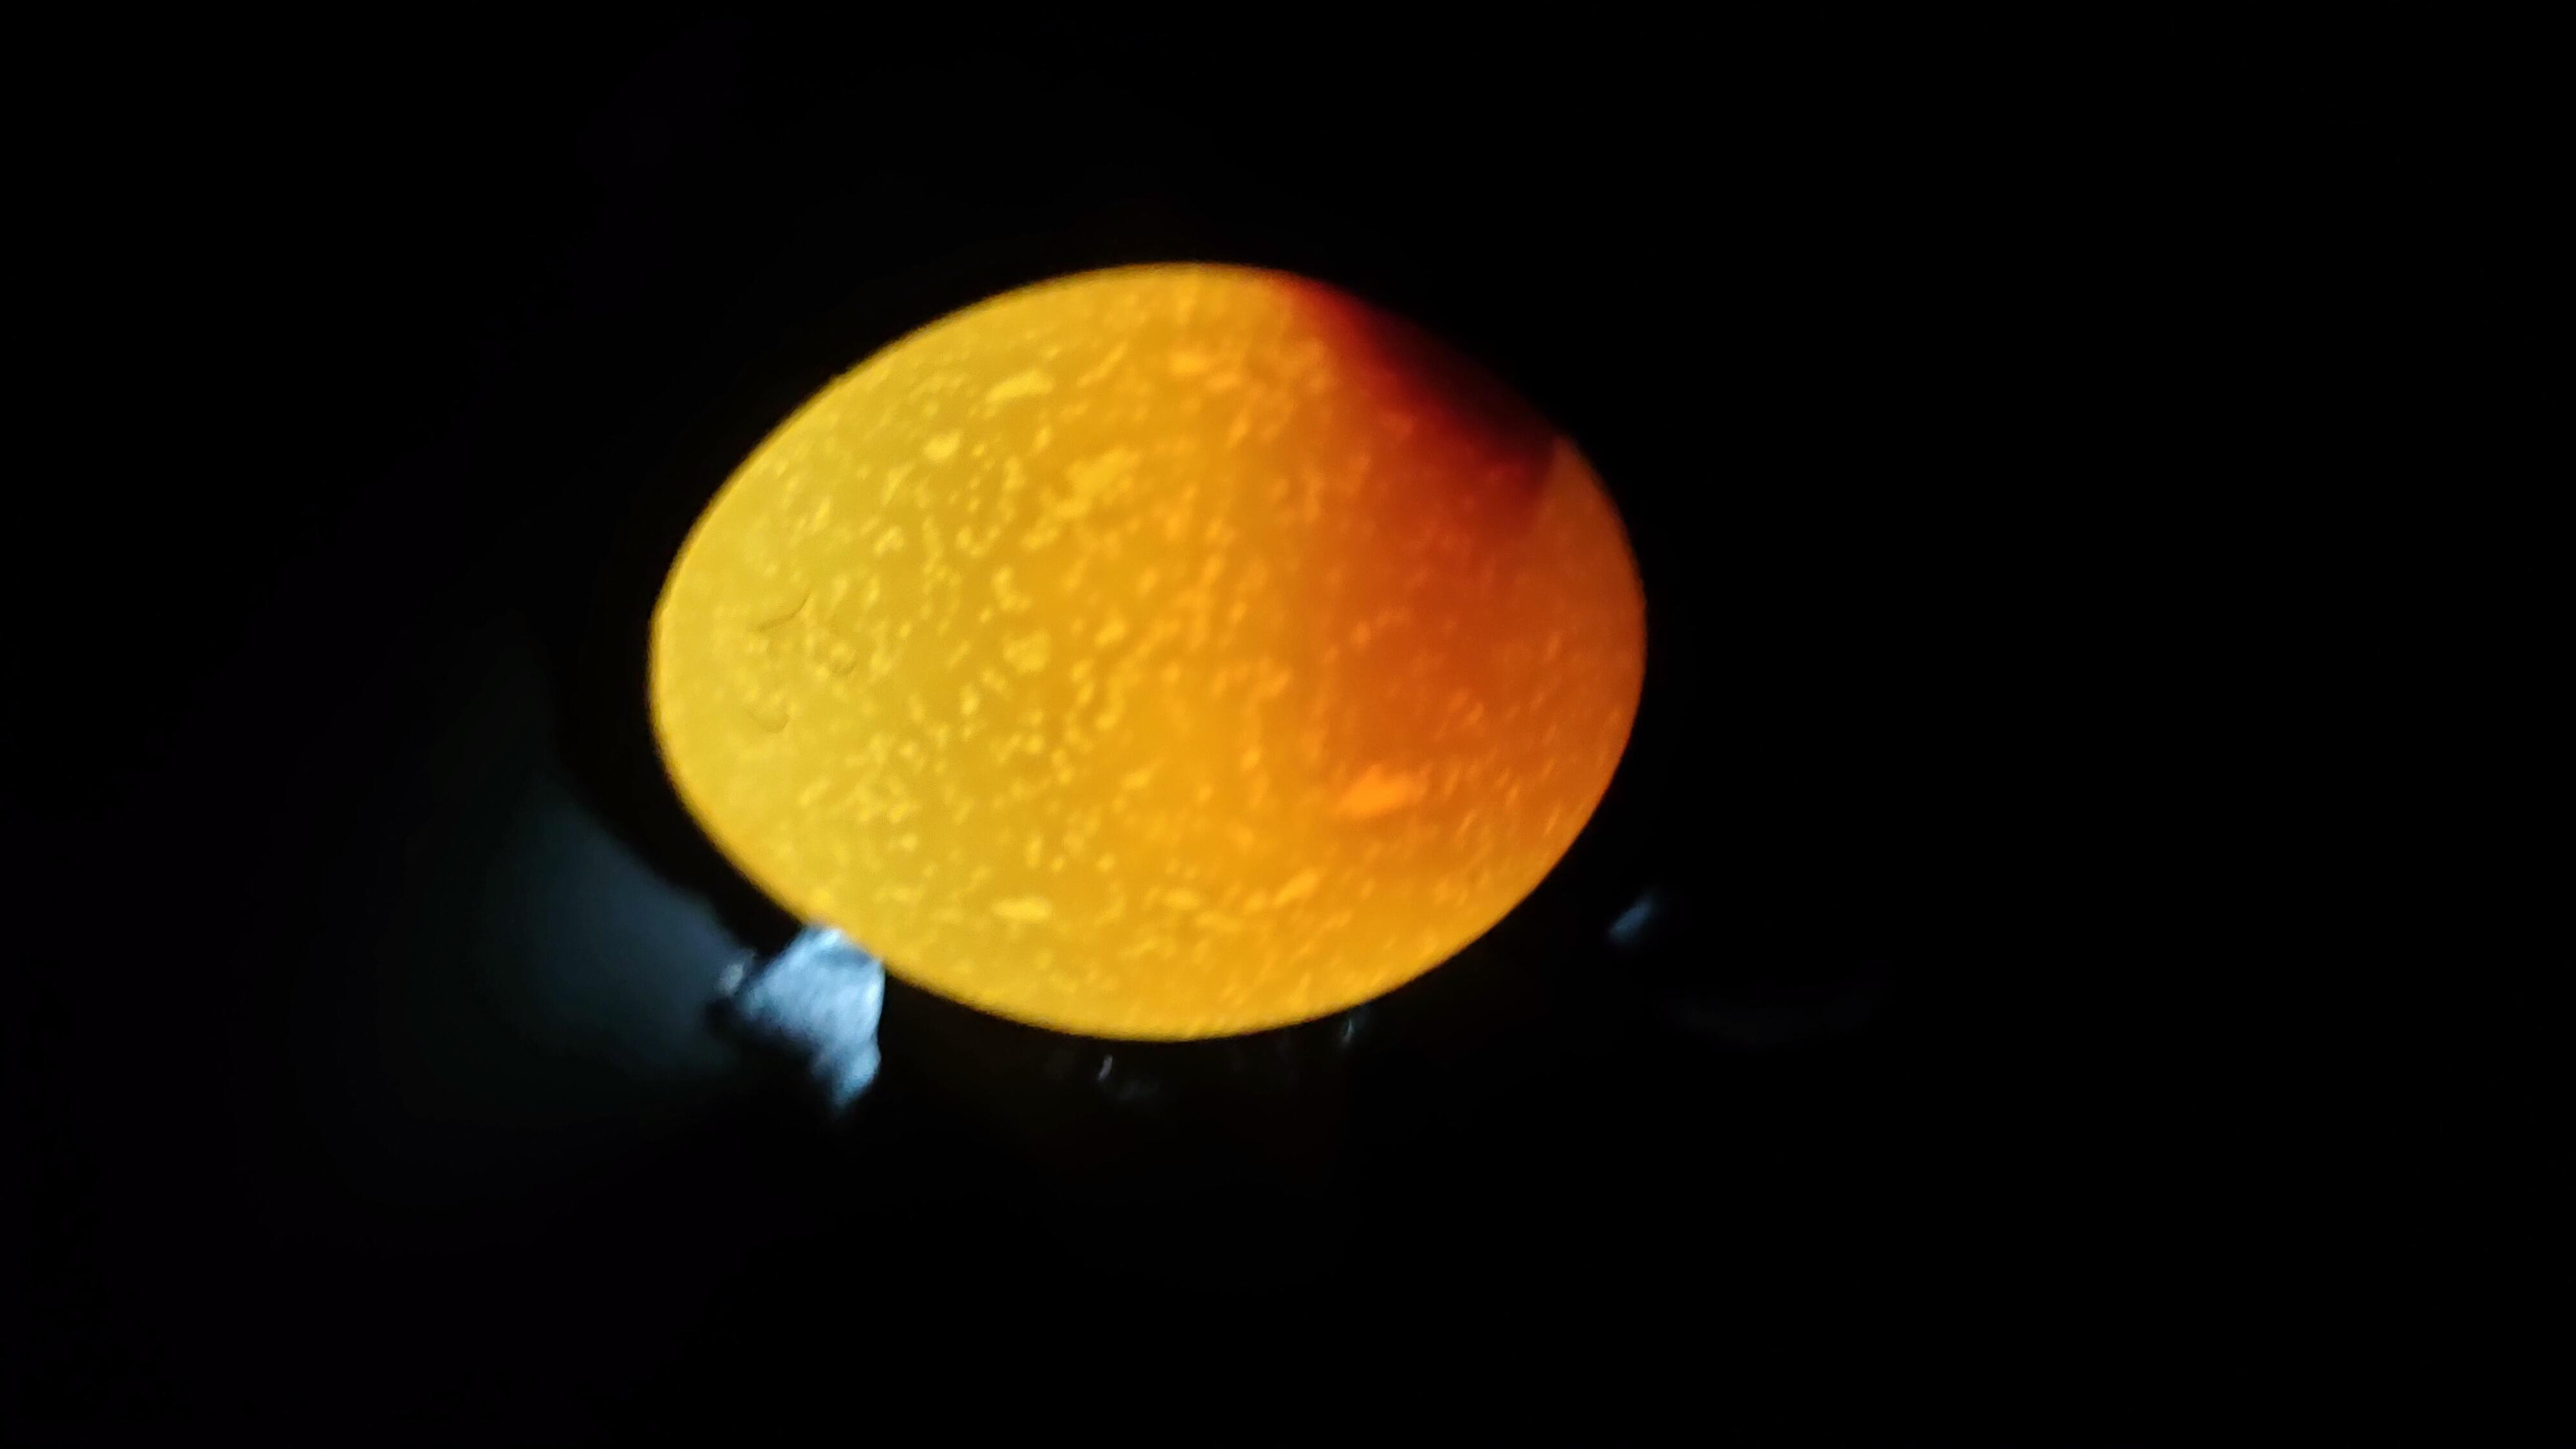AA - Premium: (681, 350, 2135, 952)
